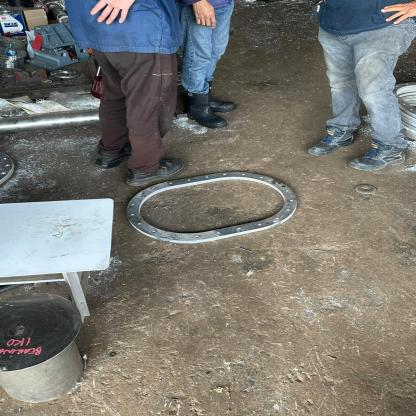bota: (178, 89, 242, 128), (347, 138, 412, 174), (126, 156, 198, 185), (306, 126, 358, 158)
